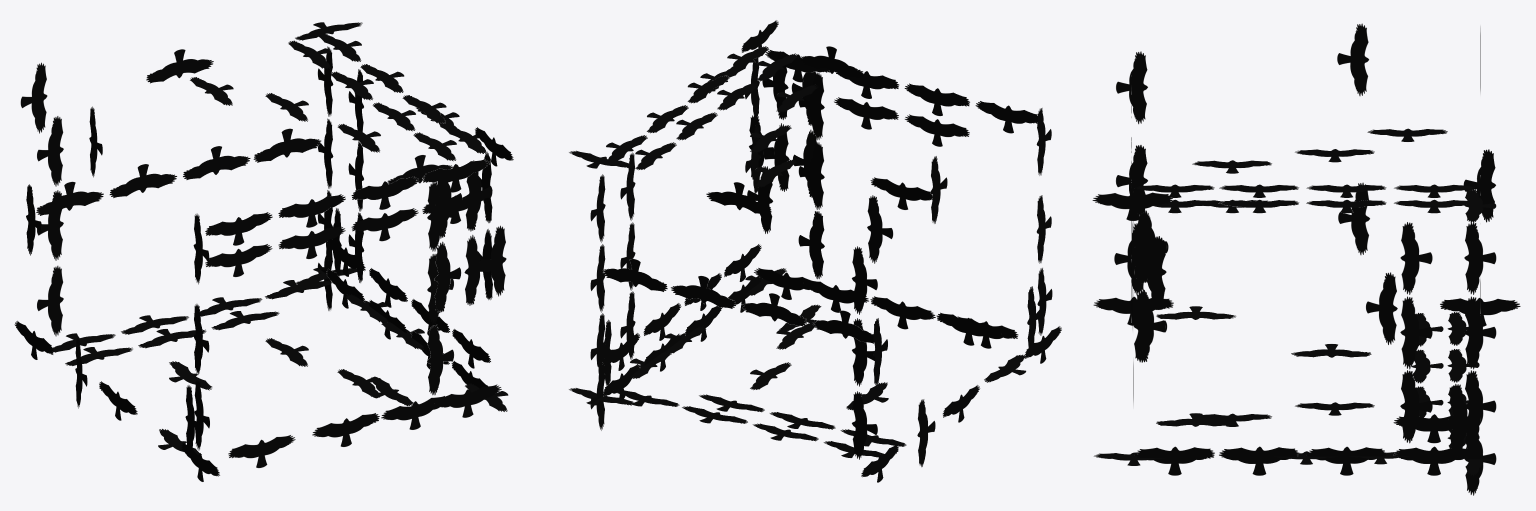
The model's file is asset.glb.
The picture shows the model from 3 angles, left to right: view 1: azimuth 30°, elevation 25°; view 2: azimuth 150°, elevation 25°; view 3: azimuth 270°, elevation 25°; orthographic projection. The views are drawn at different scales.
Parts seen in each view (by area): view 1: vogelstickerrichtig.164, vogelstickerrichtig.146, vogelstickerrichtig.147, vogelstickerrichtig.145, vogelstickerrichtig.015, vogelstickerrichtig.206, vogelstickerrichtig.014, vogelstickerrichtig.172, vogelstickerrichtig.132, vogelstickerrichtig.134, vogelstickerrichtig.017, vogelstickerrichtig.005 (+18 smaller); view 2: vogelstickerrichtig.147, vogelstickerrichtig.174, vogelstickerrichtig.172, vogelstickerrichtig.145, vogelstickerrichtig.205, vogelstickerrichtig.146, vogelstickerrichtig.164, vogelstickerrichtig.191, vogelstickerrichtig.005, vogelstickerrichtig.041, vogelstickerrichtig.116, vogelstickerrichtig.117 (+16 smaller); view 3: vogelstickerrichtig.007, vogelstickerrichtig.135, vogelstickerrichtig.040, vogelstickerrichtig.039, vogelstickerrichtig.143, vogelstickerrichtig.019, vogelstickerrichtig.038, vogelstickerrichtig.032, vogelstickerrichtig.012, vogelstickerrichtig.011, vogelstickerrichtig.142, vogelstickerrichtig.069 (+31 smaller).
Boxes of the visible parts, x1,y1,x2,y2 form: vogelstickerrichtig.164: (146,49,213,83); vogelstickerrichtig.146: (183,146,250,179); vogelstickerrichtig.147: (254,129,320,162); vogelstickerrichtig.145: (109,164,176,197); vogelstickerrichtig.015: (434,384,501,417); vogelstickerrichtig.206: (351,176,418,209); vogelstickerrichtig.014: (228,435,295,467); vogelstickerrichtig.172: (312,413,379,446); vogelstickerrichtig.132: (37,265,63,336); vogelstickerrichtig.134: (37,116,63,186); vogelstickerrichtig.017: (480,225,506,296); vogelstickerrichtig.005: (20,62,47,133); vogelstickerrichtig.147: (602,259,667,291); vogelstickerrichtig.174: (936,313,1001,345); vogelstickerrichtig.172: (870,296,935,329); vogelstickerrichtig.145: (741,293,806,326); vogelstickerrichtig.205: (905,83,969,115); vogelstickerrichtig.146: (671,276,735,308); vogelstickerrichtig.164: (706,182,771,214); vogelstickerrichtig.191: (798,211,824,278); vogelstickerrichtig.005: (867,195,893,263); vogelstickerrichtig.041: (798,142,824,209); vogelstickerrichtig.116: (834,97,898,129); vogelstickerrichtig.117: (905,114,969,146); vogelstickerrichtig.007: (1464,296,1496,369); vogelstickerrichtig.135: (1448,383,1480,456); vogelstickerrichtig.040: (1400,296,1432,369); vogelstickerrichtig.039: (1400,222,1432,294); vogelstickerrichtig.143: (1133,289,1165,362); vogelstickerrichtig.019: (1116,51,1147,124); vogelstickerrichtig.038: (1400,370,1432,442); vogelstickerrichtig.032: (1337,23,1369,96); vogelstickerrichtig.012: (1464,222,1496,294); vogelstickerrichtig.011: (1092,192,1172,220); vogelstickerrichtig.142: (1135,210,1166,282); vogelstickerrichtig.069: (1134,446,1214,475).
Bounding box in the file's own units: 11.69 × 10.43 × 12.38.
210 materials, 210 textured.
